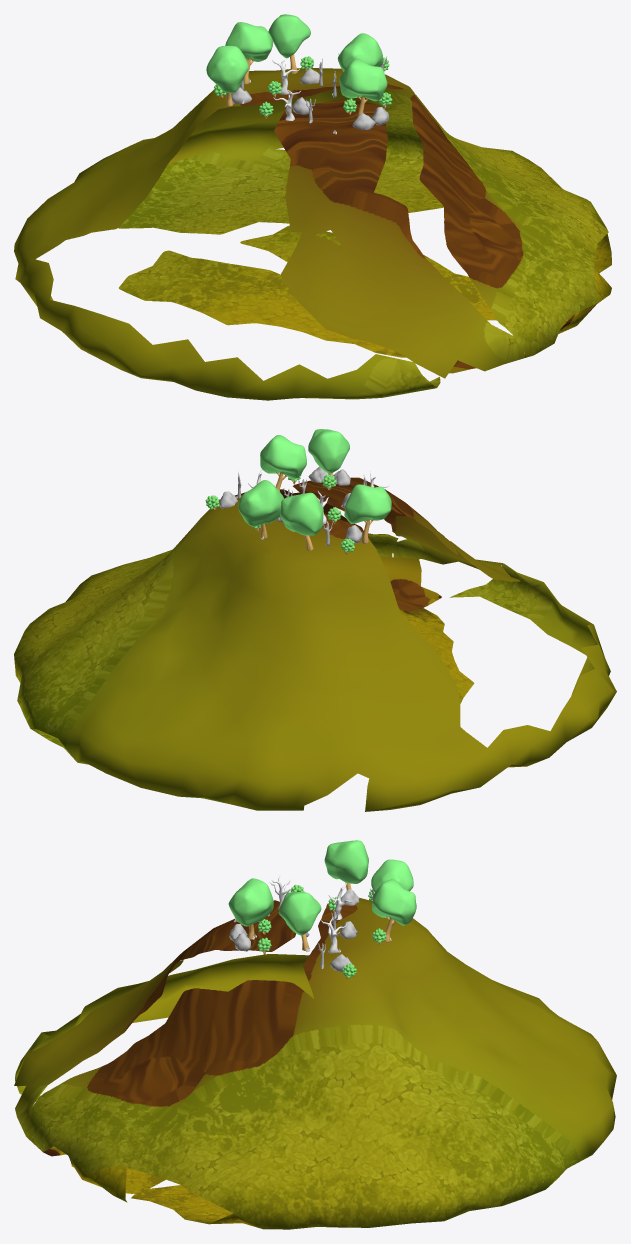
File: MiniIslandBloMDet.fbx
3 views of the same model, one above another, from view 1: azimuth 30°, elevation 25°; view 2: azimuth 150°, elevation 25°; view 3: azimuth 270°, elevation 25° (orthographic).
Parts seen in each view (by area): view 1: miniIslandMlp, tree03lp.001, tree03lp.003, tree03lp.007, tree03lp.005, tree03lp.006; view 2: miniIslandMlp, tree03lp.003, tree03lp.007, tree03lp.006, tree03lp.005, tree03lp.001; view 3: miniIslandMlp, tree03lp.003, tree03lp.001, tree03lp.005, tree03lp.006, tree03lp.007.
Boxes of the visible parts, x1,y1,x2,y2 form: miniIslandMlp: (14,68,611,400); tree03lp.001: (339,59,387,117); tree03lp.003: (206,45,248,106); tree03lp.007: (225,22,272,84); tree03lp.005: (268,14,310,73); tree03lp.006: (337,33,383,71); miniIslandMlp: (14,477,616,811); tree03lp.003: (344,484,391,544); tree03lp.007: (280,492,323,550); tree03lp.006: (260,435,306,491); tree03lp.005: (238,480,283,538); tree03lp.001: (308,429,349,475); miniIslandMlp: (14,897,616,1229); tree03lp.003: (324,840,368,890); tree03lp.001: (228,878,273,939); tree03lp.005: (372,879,416,942); tree03lp.006: (278,892,321,950); tree03lp.007: (371,859,413,892).
Size of the model in its own units: 243 by 107 by 245.
